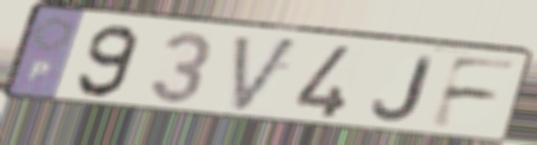3: (146, 29, 214, 107)
4: (289, 43, 357, 121)
9: (75, 23, 144, 100)
F: (424, 54, 524, 132)
J: (370, 54, 436, 124)
V: (230, 32, 303, 117)
